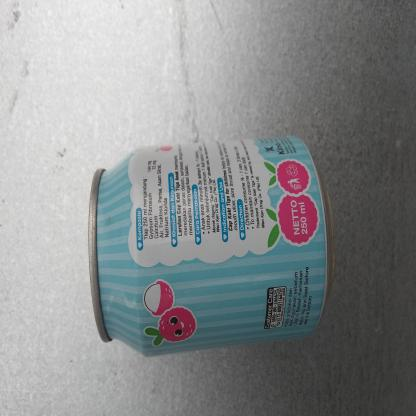mouse: (84, 129, 333, 358)
